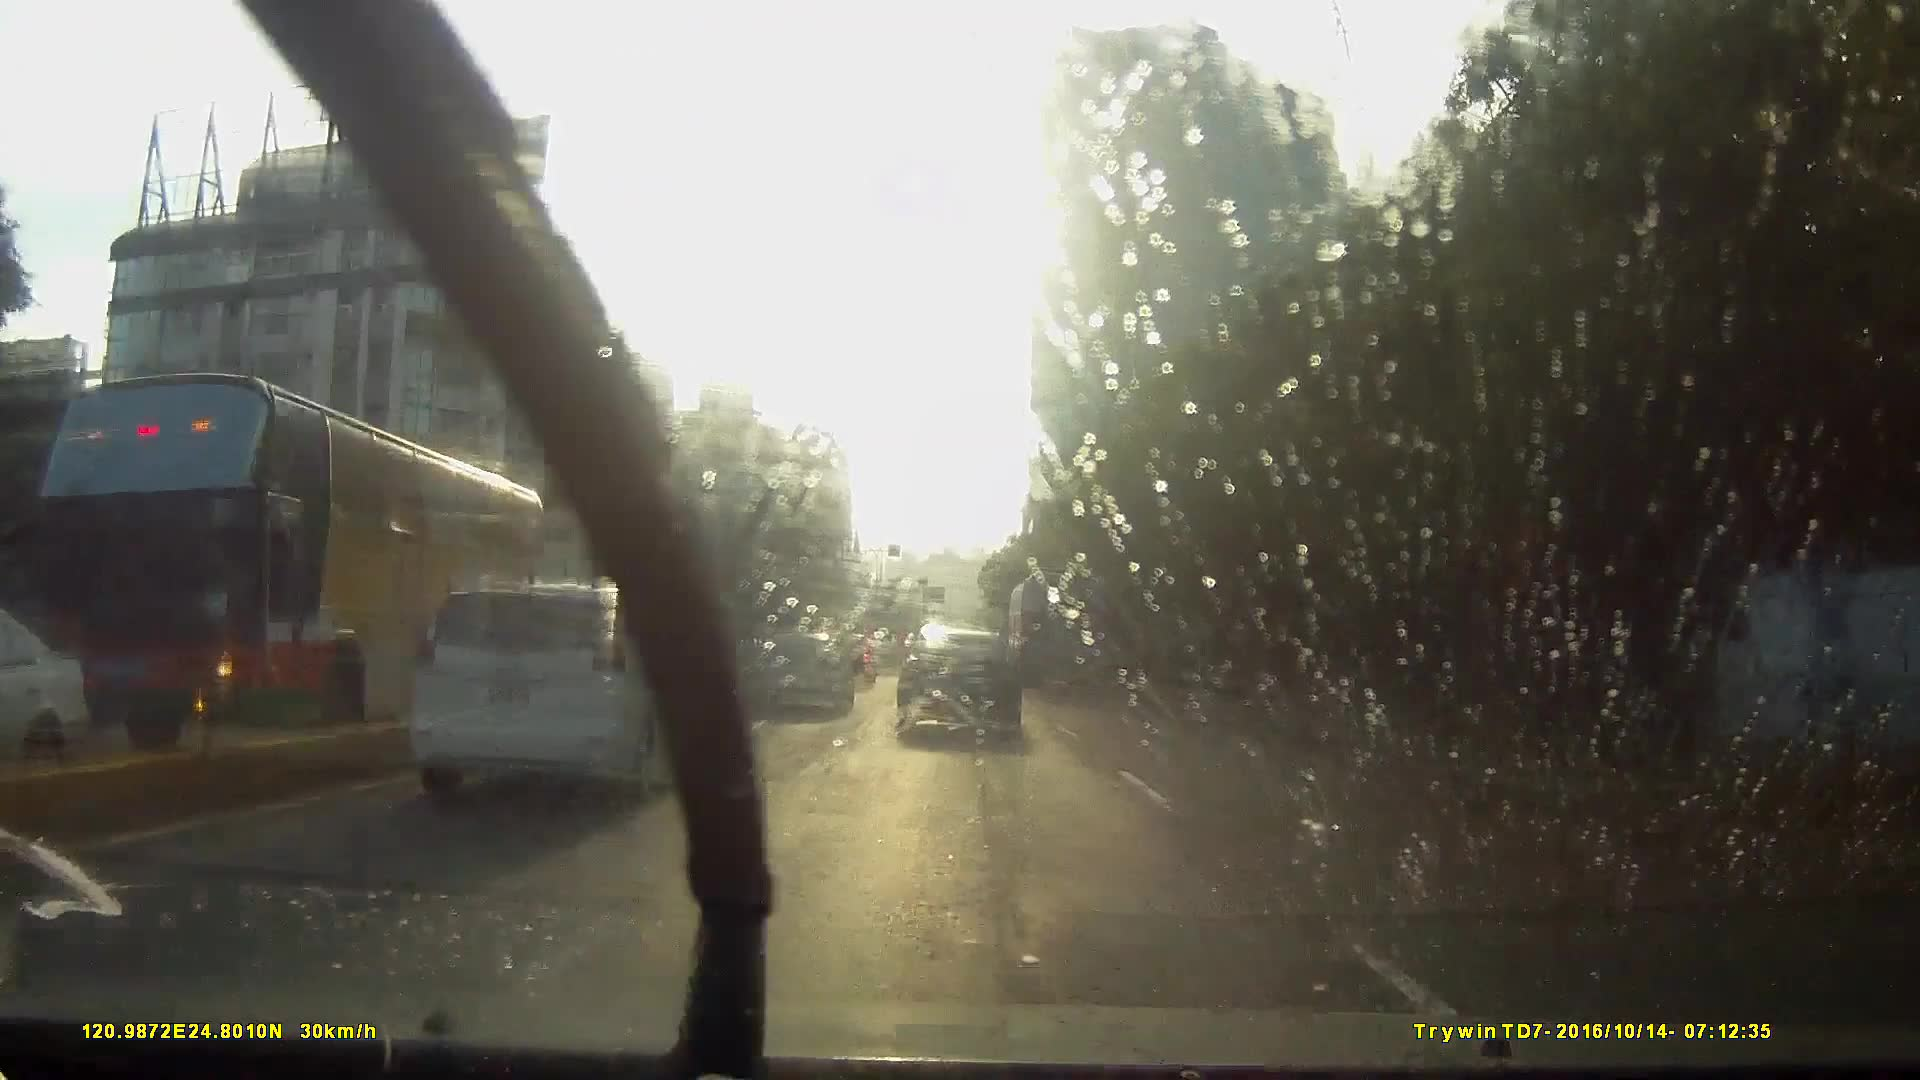vehicle: (17, 364, 558, 767), (251, 556, 684, 868), (410, 572, 708, 800), (894, 621, 1022, 735), (1007, 567, 1112, 694), (746, 628, 855, 715), (866, 638, 915, 687)
